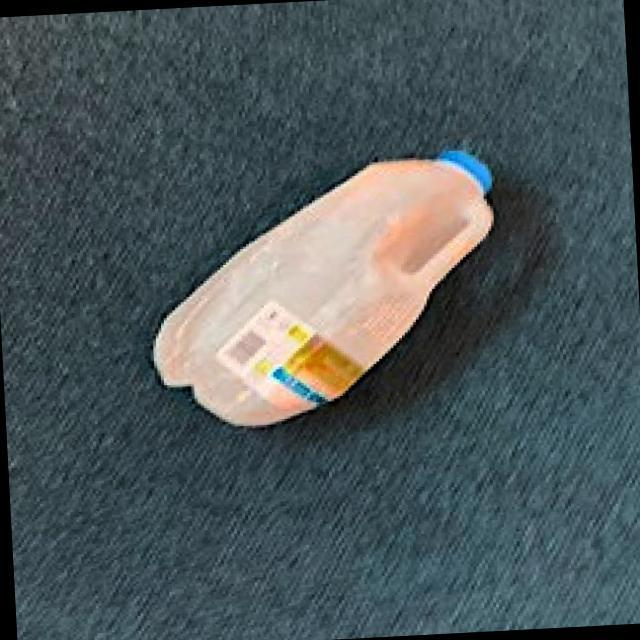HDPE Plastic: (148, 147, 498, 431)
